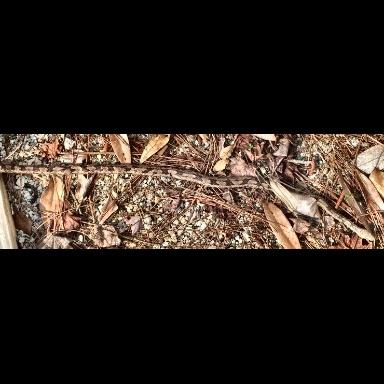snake: (0, 169, 375, 243)
